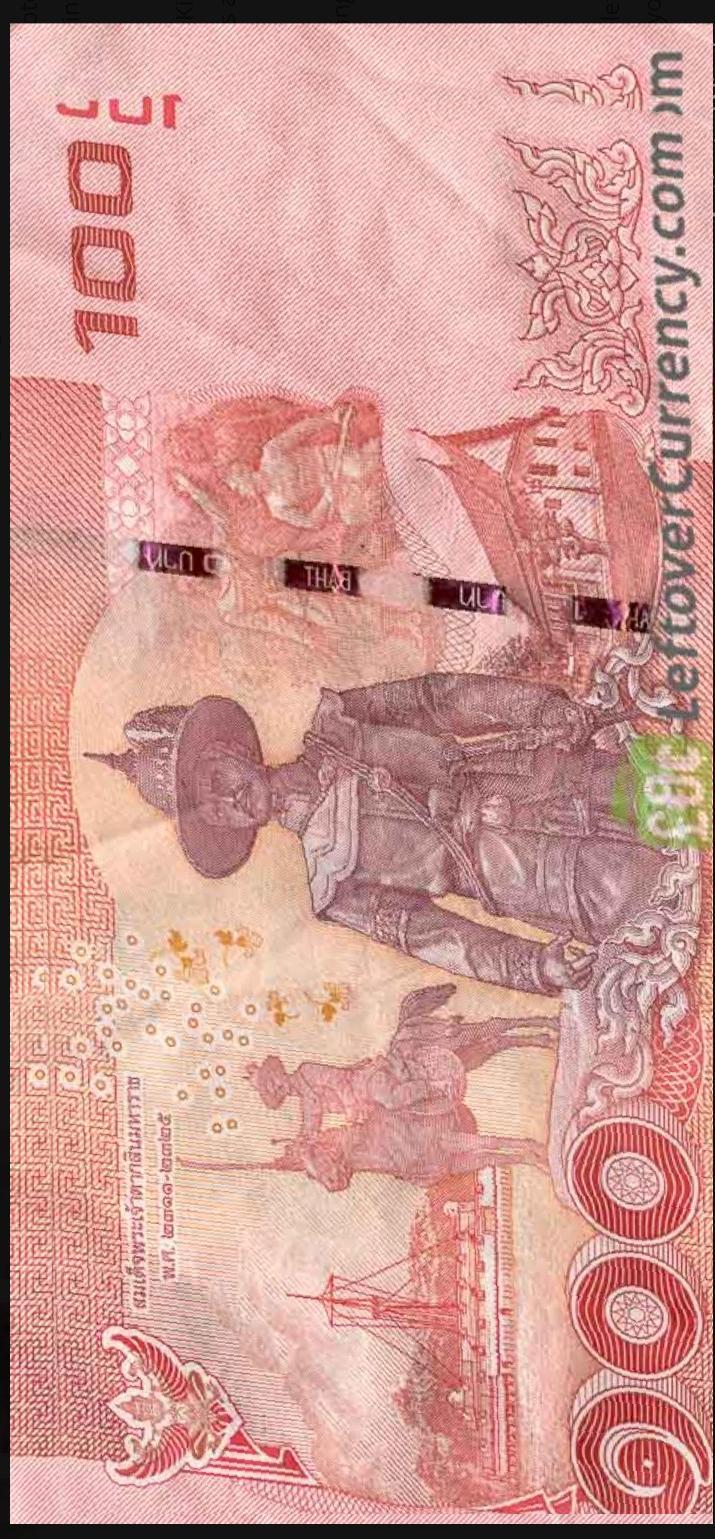100BahtTai: (17, 32, 713, 1515)
